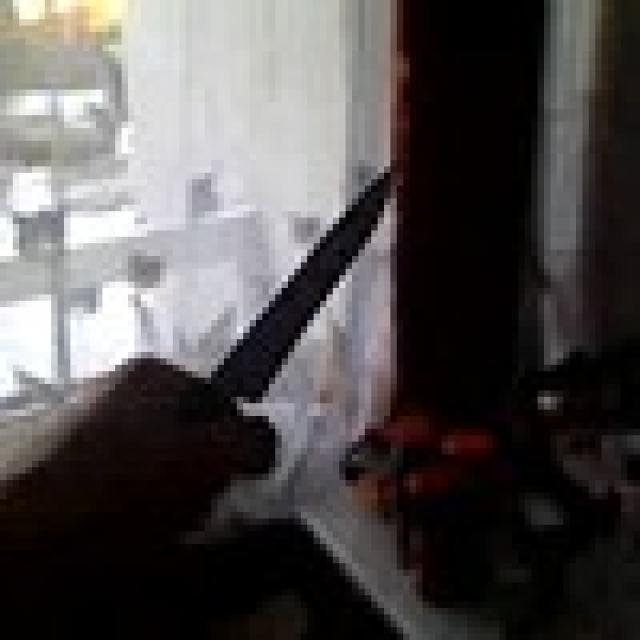Knife: (211, 160, 410, 435)
